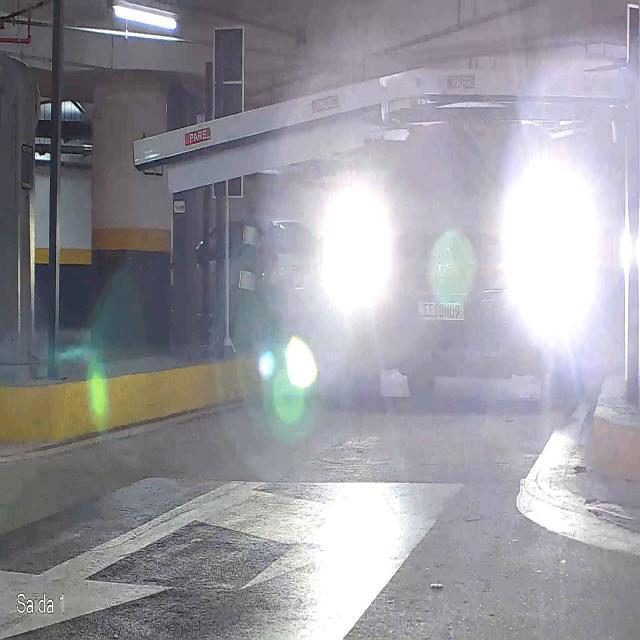mercosul_plate: (414, 292, 467, 322)
